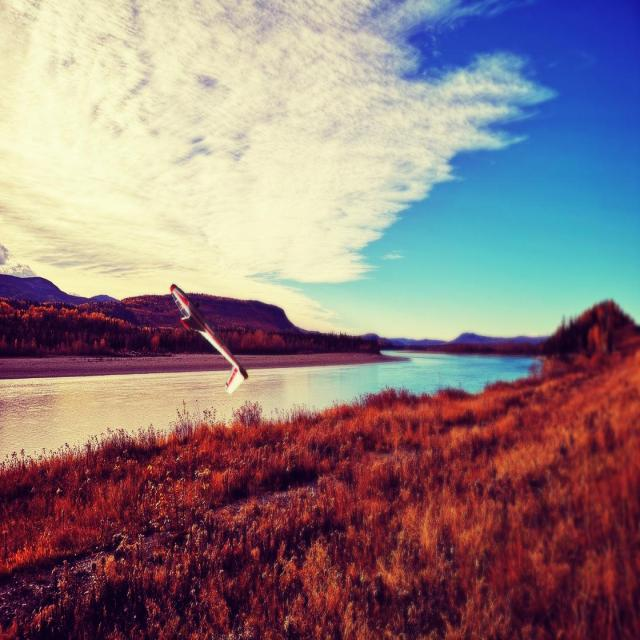airplane: (170, 283, 248, 395)
